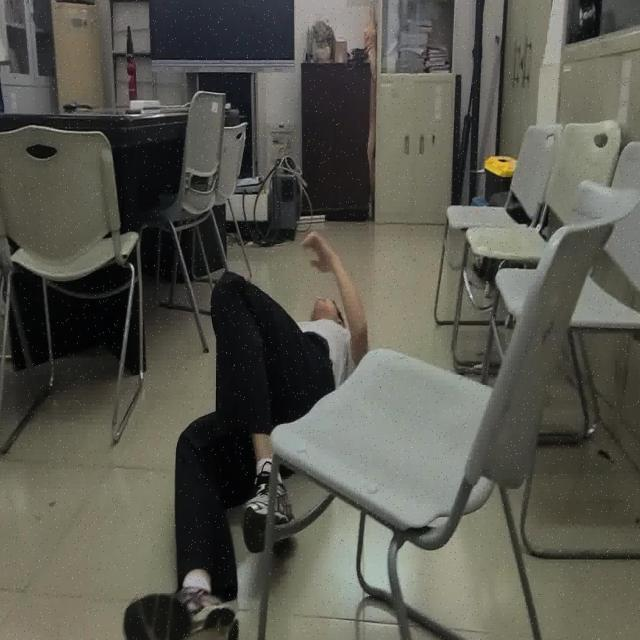fall: (120, 228, 370, 640)
